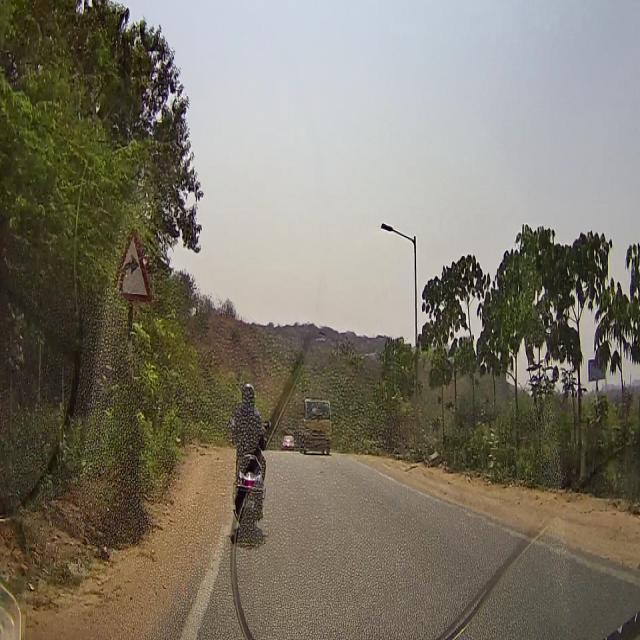right-hand-curve: (112, 224, 152, 295)
